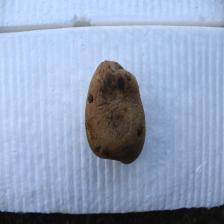Diseased-fungal potato: (84, 58, 145, 165)
